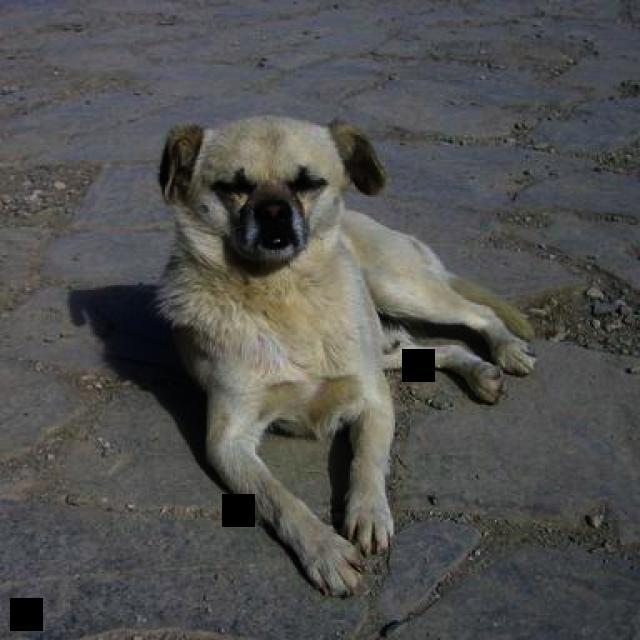adult_dog: (156, 113, 543, 596)
